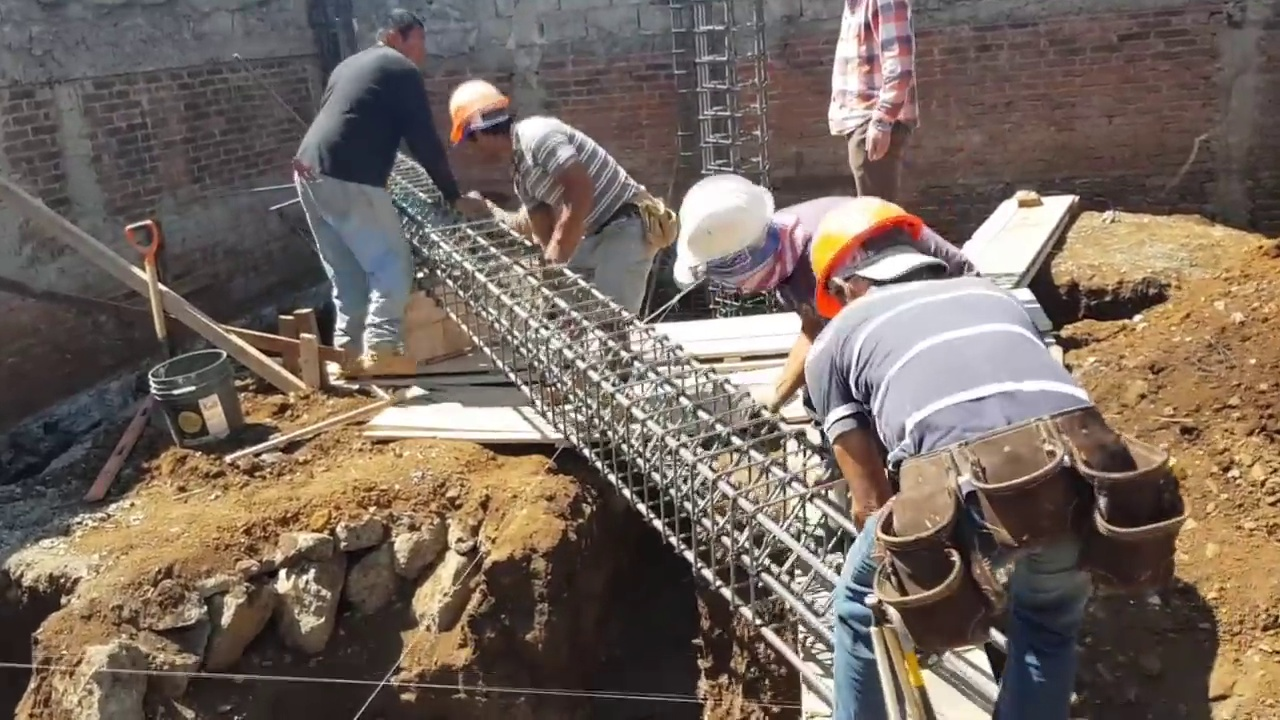helmet: (798, 195, 924, 315), (678, 174, 772, 273), (442, 80, 501, 144)
helmet-off: (376, 10, 429, 60)
helmet-on: (794, 198, 973, 306), (674, 169, 798, 301), (441, 79, 520, 162)
person: (800, 197, 1140, 720), (671, 168, 1004, 409), (294, 23, 456, 392), (440, 78, 664, 317), (831, 3, 925, 198)
